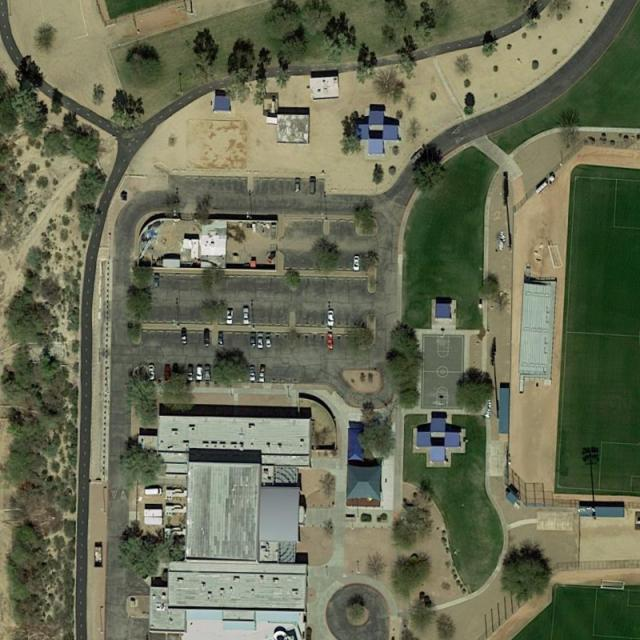vehicle: (326, 310, 335, 329), (144, 487, 163, 496), (352, 255, 362, 271), (242, 307, 251, 324), (248, 366, 257, 383), (258, 366, 267, 383), (205, 365, 213, 382), (226, 310, 234, 326), (148, 364, 156, 380), (186, 366, 194, 382), (294, 178, 302, 194), (203, 330, 210, 348), (181, 331, 189, 346), (153, 274, 161, 289), (327, 334, 334, 351), (266, 332, 273, 349), (250, 334, 258, 348), (196, 366, 203, 381), (309, 178, 315, 195), (218, 332, 225, 346), (258, 334, 264, 350), (165, 366, 171, 382), (173, 364, 179, 380)
